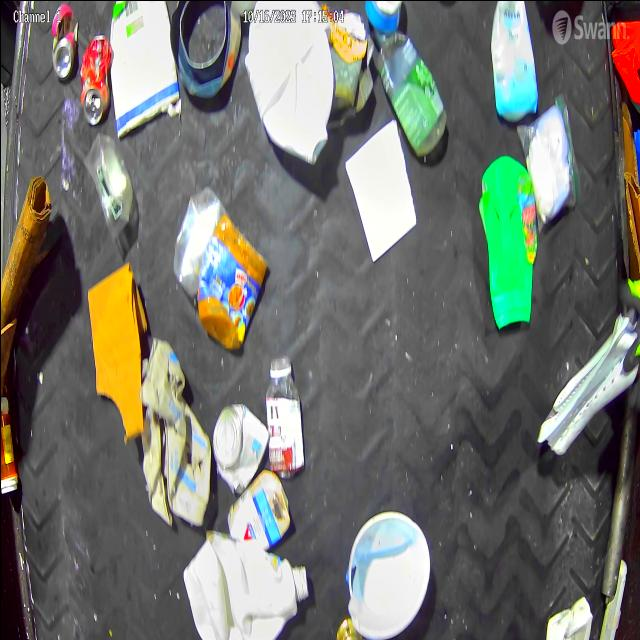can: (210, 408, 268, 492), (80, 31, 110, 126), (52, 6, 78, 84)
milk_jug: (248, 0, 338, 162), (178, 535, 310, 640)
non_white_jug: (482, 153, 540, 334)
plastic_bottle: (372, 31, 448, 158)
